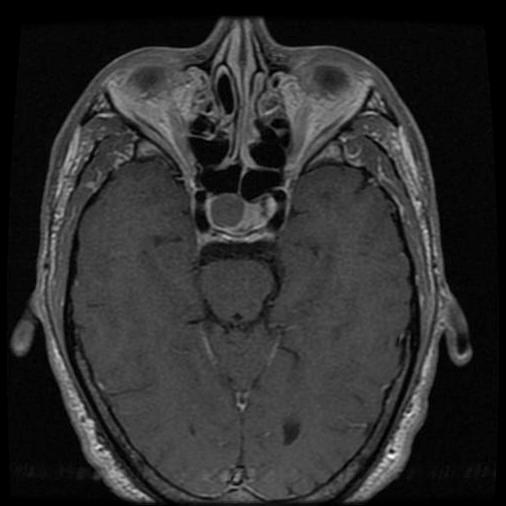Tumour-Pituitary: (185, 187, 297, 258)
